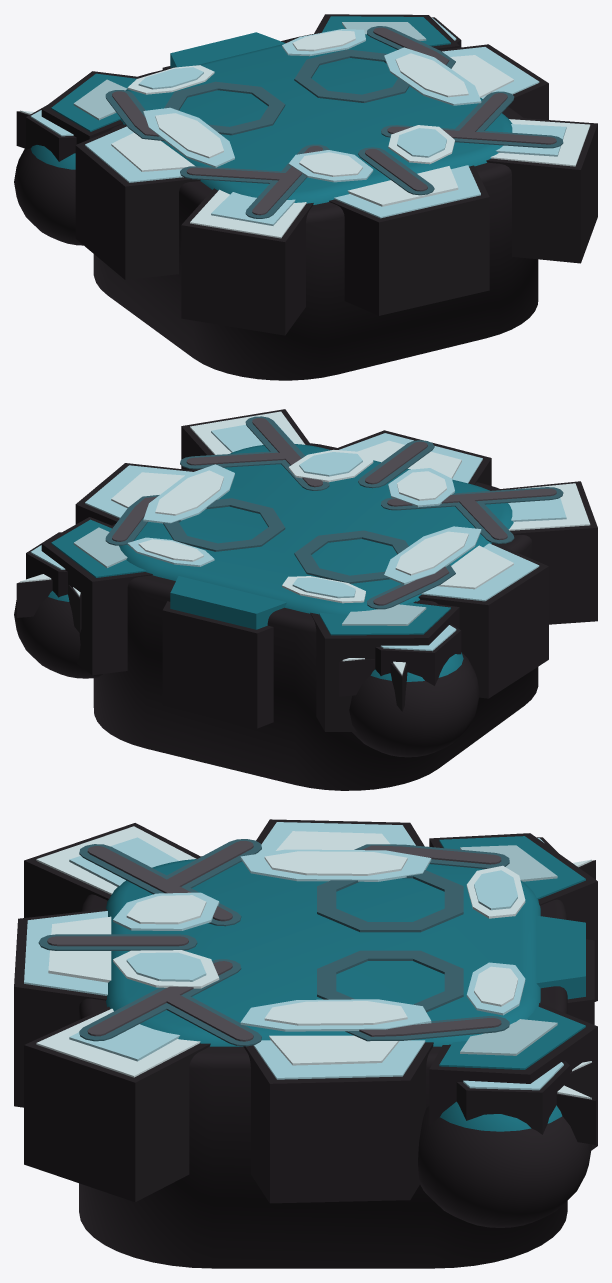
File: body_gelo_rachado.fbx
3 renders of one model, top to bottom at view 1: azimuth 30°, elevation 25°; view 2: azimuth 150°, elevation 25°; view 3: azimuth 270°, elevation 25°, orthographic. The views are drawn at different scales.
Visible parts, largest first — view 1: body_gelo_rachado_corpo, body_gelo_rachado_mao_esq; view 2: body_gelo_rachado_corpo, body_gelo_rachado_mao_esq, body_gelo_rachado_mao; view 3: body_gelo_rachado_corpo, body_gelo_rachado_mao.
Part boxes in pixels (x1,y1,x2,y2): body_gelo_rachado_corpo: (41,14,597,380); body_gelo_rachado_mao_esq: (14,105,83,245); body_gelo_rachado_corpo: (41,409,597,790); body_gelo_rachado_mao_esq: (339,624,479,757); body_gelo_rachado_mao: (14,532,102,678); body_gelo_rachado_corpo: (14,819,597,1268); body_gelo_rachado_mao: (418,1061,595,1227).
Size of the model in its own units: 5.4 by 2.06 by 4.78.
Materials: 1 (1 with a texture image).
